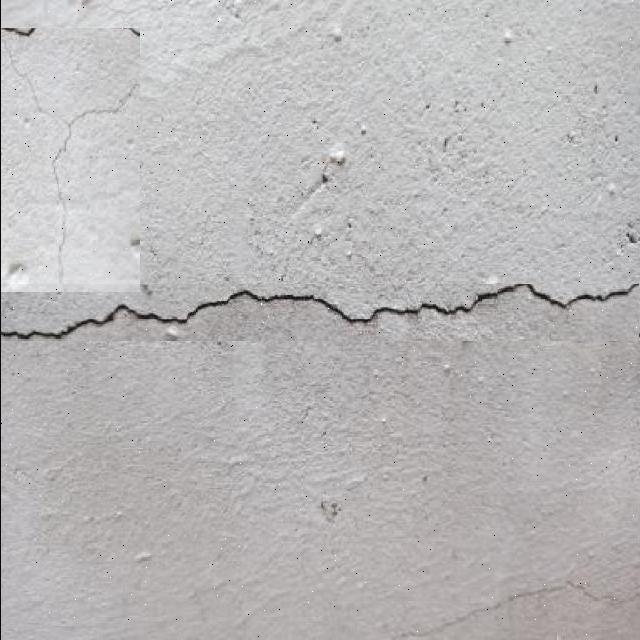crack: (1, 278, 639, 341), (160, 239, 421, 325), (387, 577, 626, 639), (159, 451, 299, 527), (274, 201, 381, 295), (410, 101, 508, 203), (506, 295, 640, 366), (174, 37, 290, 107), (225, 1, 354, 62), (50, 206, 141, 291), (0, 291, 171, 336), (559, 81, 634, 174), (130, 23, 153, 304), (8, 36, 64, 130), (49, 103, 73, 282), (299, 449, 366, 496), (593, 215, 640, 281), (0, 231, 51, 289), (74, 0, 159, 31), (546, 283, 637, 309), (3, 25, 141, 40), (0, 284, 144, 298), (5, 321, 110, 340), (215, 447, 257, 468), (6, 265, 30, 290), (44, 467, 58, 482), (298, 154, 312, 169), (279, 272, 287, 282)
dampens: (58, 85, 139, 145), (284, 170, 339, 236), (455, 284, 540, 314), (180, 294, 265, 321), (566, 578, 628, 607), (103, 80, 140, 121), (516, 283, 567, 309), (222, 289, 277, 306), (304, 168, 332, 199), (616, 225, 638, 253), (2, 26, 37, 37), (298, 404, 315, 425), (441, 136, 450, 152), (322, 173, 329, 184)
dampness: (0, 391, 174, 631), (314, 148, 347, 190)
